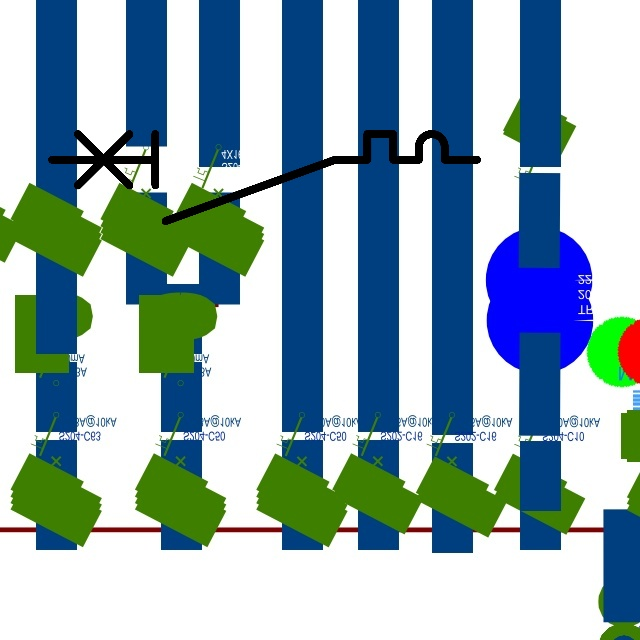interruptor_termomagnetico: (41, 123, 488, 232)
